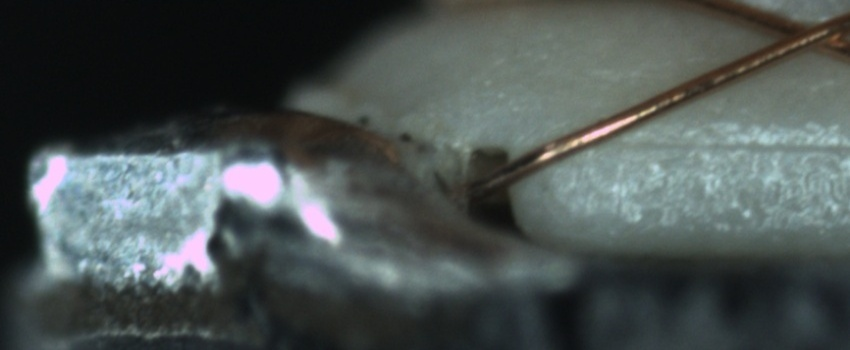CL: (759, 6, 844, 61)
DL: (609, 111, 846, 176)
